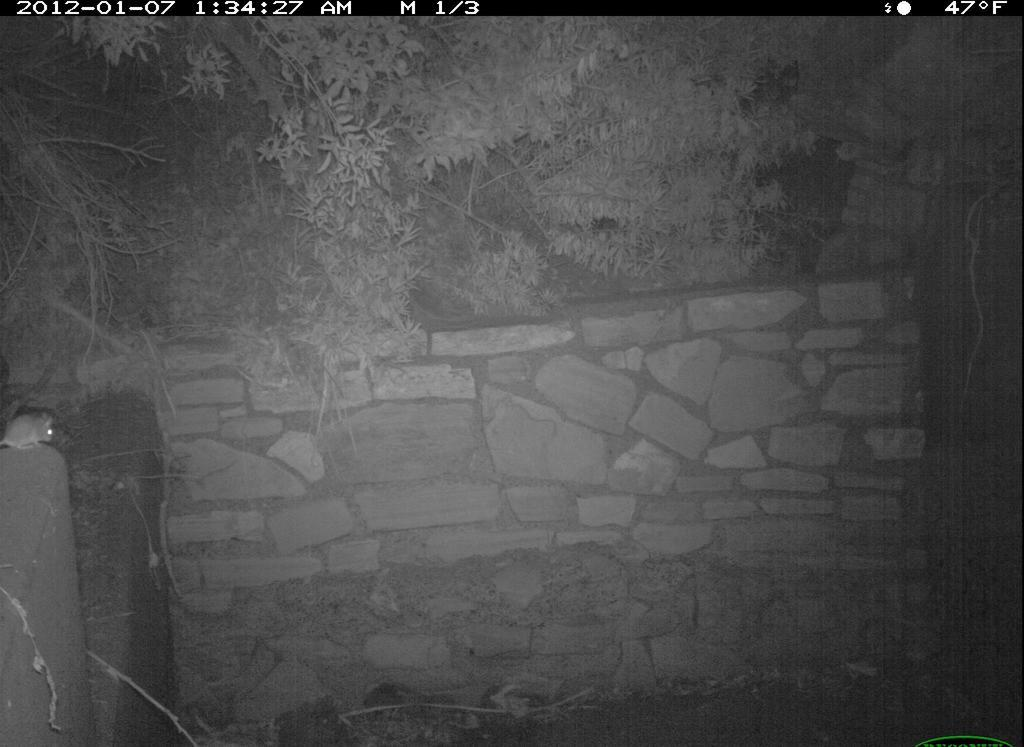rodent: (1, 406, 61, 456)
